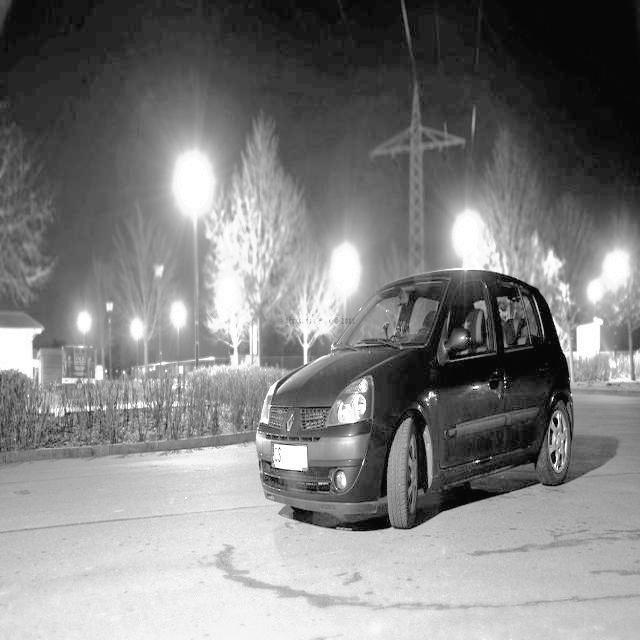Car: (277, 283, 583, 556)
